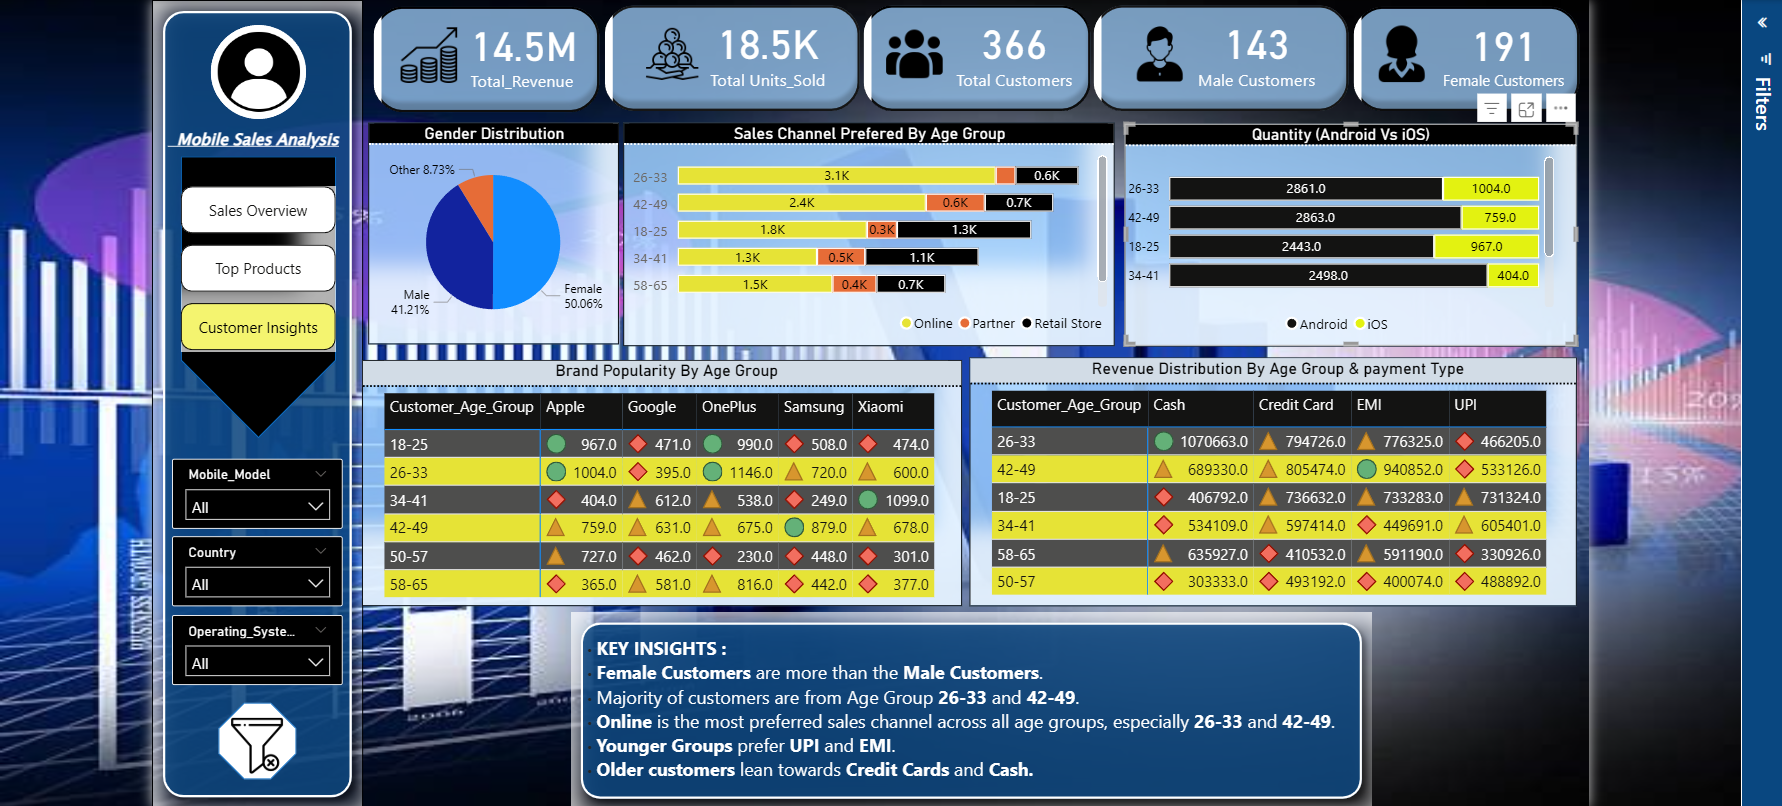

Layout of this report page (visuals, bound fields, positions):
{"tool":"powerbi","page":{"name":"Customer Insights","canvas":[1280,720],"ordinal":2},"visuals":[{"type":"pivotTable","title":"Revenue Distribution By Age Group & payment Type","fields":{"Rows":["Fact_Sales.Customer_Age_Group"],"Values":["Sum(Fact_Sales.Total_Revenue)"],"Columns":["Fact_Sales.Payment_Type"]},"box":[728,318.4,541,221.5],"z":0},{"type":"pieChart","title":"Gender Distribution","fields":{"Category":["Fact_Sales.Customer_Gender"],"Y":["Sum(Fact_Sales.Units_Sold)"]},"box":[193,109.3,223.3,197.7],"z":1000},{"type":"barChart","title":"Sales Channel Prefered By Age Group","fields":{"Category":["Fact_Sales.Customer_Age_Group"],"Series":["Fact_Sales.Sales_Channel"],"Y":["Sum(Fact_Sales.Units_Sold)"]},"box":[419.8,109.3,437.2,198.8],"z":4000},{"type":"shape","box":[0,0,188.1,720.2],"z":5000},{"type":"cardVisual","fields":{"Data":["Sum(Fact_Sales.Total_Revenue)"]},"box":[193,1.2,211.6,104.7],"z":6000},{"type":"shape","box":[52.3,22.1,84.9,83.7],"z":7000},{"type":"cardVisual","fields":{"Data":["CountNonNull(Fact_Sales.Transaction_ID)"]},"box":[629,0,212,104.3],"z":8000},{"type":"cardVisual","fields":{"Data":["Fact_Sales.Female Customers"]},"box":[1065,1.2,211.6,103.5],"z":9000},{"type":"cardVisual","fields":{"Data":["Fact_Sales.Male Customers"]},"box":[833.7,0,237.2,104.7],"z":10000},{"type":"cardVisual","fields":{"Data":["Sum(Fact_Sales.Units_Sold)"]},"box":[398,0,237.2,104.3],"z":11000},{"type":"image","box":[51.2,20.9,88.4,86],"z":12000},{"type":"shape","box":[372.9,545.5,713.5,174.8],"z":13000},{"type":"slicer","fields":{"Values":["Dim_Products.Mobile_Model"]},"box":[17.4,408.1,152.3,62.8],"z":14000},{"type":"slicer","fields":{"Values":["Fact_Sales.Country"]},"box":[17.4,477.9,152.3,62.8],"z":15000},{"type":"slicer","fields":{"Values":["Dim_Products.Operating_System"]},"box":[17.4,547.7,152.3,62.8],"z":16000},{"type":"shape","box":[25.6,139.5,138.4,251.2],"z":17000},{"type":"textbox","box":[9.3,109.3,186,59.3],"z":18000},{"type":"shape","box":[59.3,625.6,69.8,68.6],"z":19000},{"type":"image","box":[62.8,634.9,61.6,59.3],"z":20000},{"type":"pageNavigator","box":[25.6,166.3,138.4,147.7],"z":21000},{"type":"pivotTable","title":"Brand Popularity By Age Group","fields":{"Columns":["Fact_Sales.Brand"],"Rows":["Fact_Sales.Customer_Age_Group"],"Values":["Sum(Fact_Sales.Units_Sold)"]},"box":[187,320.6,534.3,219.3],"z":22000},{"type":"hundredPercentStackedBarChart","title":"Quantity (Android Vs iOS)","fields":{"Category":["Fact_Sales.Customer_Age_Group"],"Y":["Sum(Fact_Sales.Units_Sold)"],"Series":["Fact_Sales.Operating_System"]},"box":[865.7,110.5,403.5,198.1],"z":23000},{"type":"textbox","box":[372.9,561,713.5,148.1],"z":24000}]}

Visuals, with their boxes on the page's 1280x720 design canvas (x1, y1, x2, y2). These are canvas units, not pixel positions in the 1782x806 screenshot, which may show the page scaled, cropped or inside an application window:
"Revenue Distribution By Age Group & payment Type" pivotTable: box(728, 318, 1269, 540)
"Gender Distribution" pieChart: box(193, 109, 416, 307)
"Sales Channel Prefered By Age Group" barChart: box(420, 109, 857, 308)
shape: box(0, 0, 188, 720)
cardVisual - Sum(Fact_Sales.Total_Revenue): box(193, 1, 405, 106)
shape: box(52, 22, 137, 106)
cardVisual - CountNonNull(Fact_Sales.Transaction_ID): box(629, 0, 841, 104)
cardVisual - Fact_Sales.Female Customers: box(1065, 1, 1277, 105)
cardVisual - Fact_Sales.Male Customers: box(834, 0, 1071, 105)
cardVisual - Sum(Fact_Sales.Units_Sold): box(398, 0, 635, 104)
image: box(51, 21, 140, 107)
shape: box(373, 546, 1086, 720)
slicer - Dim_Products.Mobile_Model: box(17, 408, 170, 471)
slicer - Fact_Sales.Country: box(17, 478, 170, 541)
slicer - Dim_Products.Operating_System: box(17, 548, 170, 610)
shape: box(26, 140, 164, 391)
textbox: box(9, 109, 195, 169)
shape: box(59, 626, 129, 694)
image: box(63, 635, 124, 694)
pageNavigator: box(26, 166, 164, 314)
"Brand Popularity By Age Group" pivotTable: box(187, 321, 721, 540)
"Quantity (Android Vs iOS)" hundredPercentStackedBarChart: box(866, 110, 1269, 309)
textbox: box(373, 561, 1086, 709)
